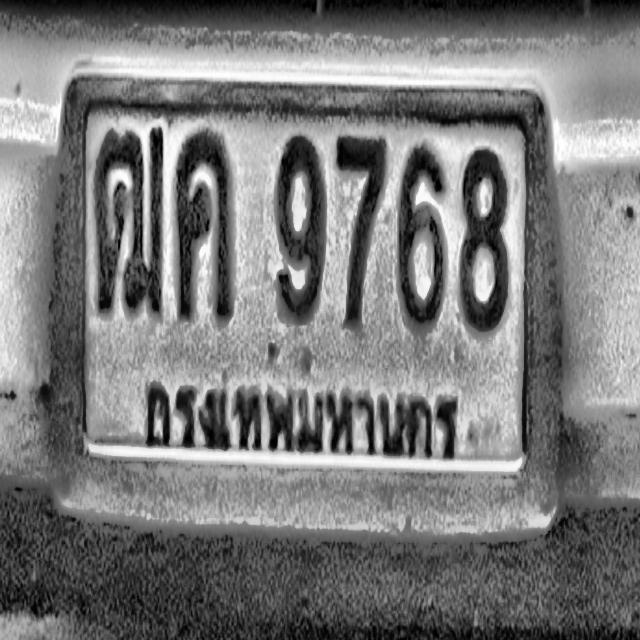license-plate: (41, 61, 576, 546)
